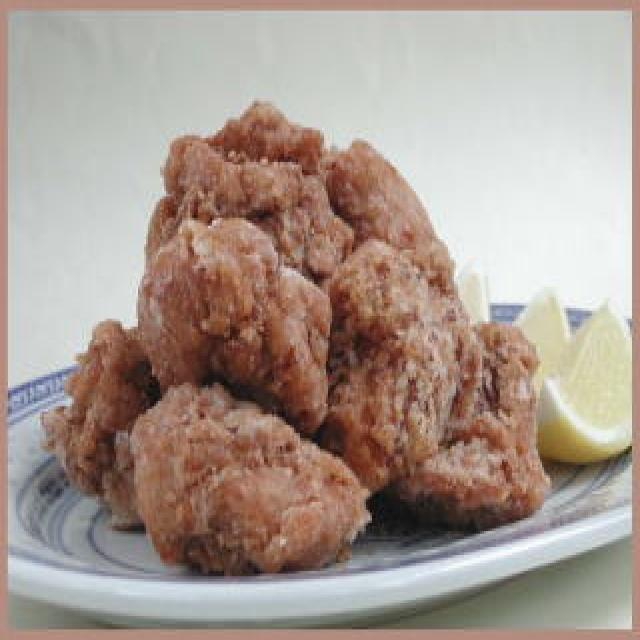鸡肉料理 含炸鸡: (4, 32, 608, 616)
